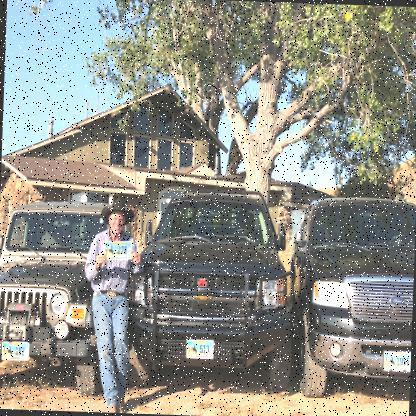License-Plate: (186, 338, 215, 361), (1, 341, 31, 363), (383, 350, 411, 373), (104, 241, 132, 261)
